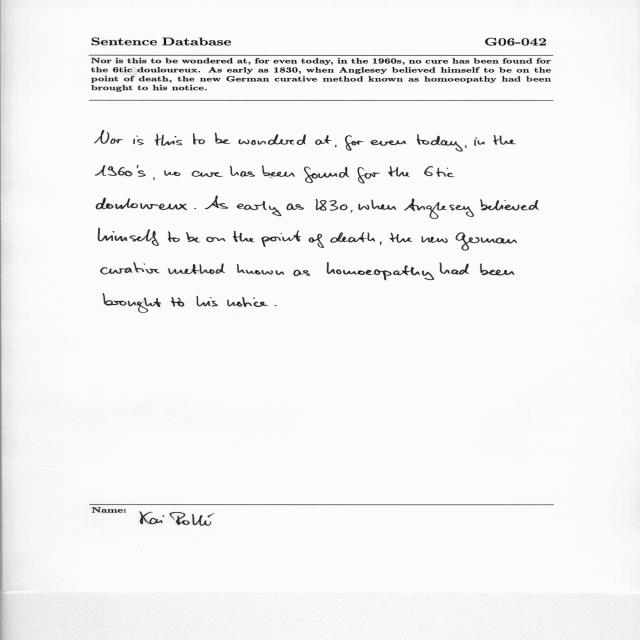word: (327, 263, 434, 280), (404, 198, 474, 219), (103, 293, 161, 313), (98, 228, 159, 246), (456, 233, 517, 251), (96, 198, 187, 210), (417, 134, 463, 152), (238, 134, 306, 145), (304, 167, 349, 183), (101, 263, 160, 275), (261, 230, 301, 247), (237, 201, 281, 216), (480, 200, 539, 211), (168, 264, 225, 275), (95, 166, 146, 177), (237, 264, 284, 275), (331, 232, 376, 243), (262, 166, 295, 179), (227, 297, 268, 307), (480, 264, 514, 276), (94, 130, 123, 144), (316, 199, 348, 211), (359, 200, 397, 210), (358, 167, 380, 184), (439, 263, 469, 275), (424, 166, 455, 177), (155, 134, 183, 146), (345, 135, 364, 151), (205, 196, 228, 209), (230, 166, 255, 177), (388, 166, 410, 177), (233, 231, 255, 242), (196, 296, 218, 307), (493, 135, 516, 145), (390, 233, 413, 243), (371, 140, 406, 146), (309, 234, 324, 248), (421, 236, 448, 243), (192, 171, 223, 177), (315, 135, 332, 145), (215, 133, 230, 144), (186, 232, 200, 242), (193, 134, 205, 145), (168, 231, 180, 242), (171, 297, 184, 307), (286, 204, 304, 210), (206, 237, 226, 242), (133, 136, 144, 145), (474, 137, 485, 146), (164, 170, 180, 176), (294, 270, 310, 276), (380, 241, 382, 245), (153, 177, 155, 180), (351, 210, 353, 213), (335, 145, 337, 147), (465, 145, 466, 148), (274, 305, 277, 306), (194, 208, 196, 209)
